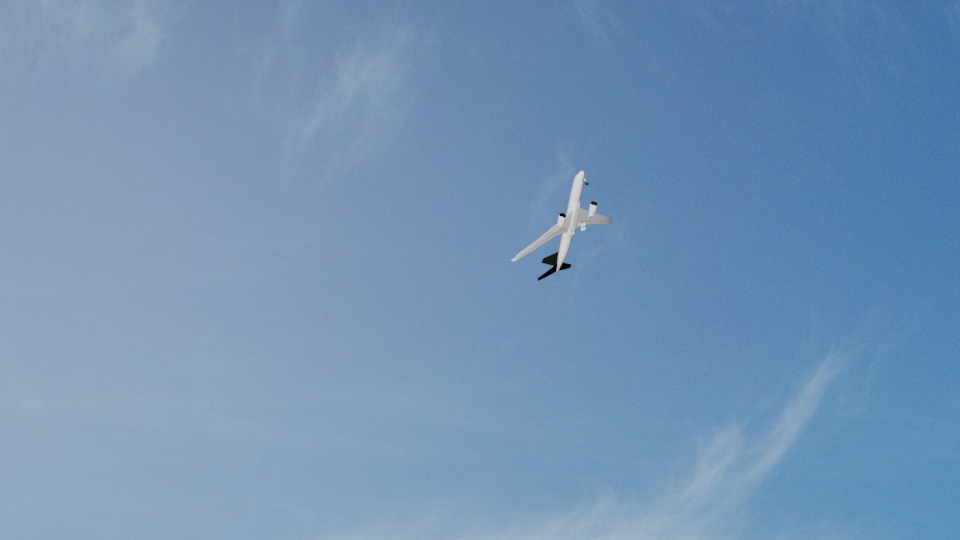plane: (511, 169, 613, 280)
